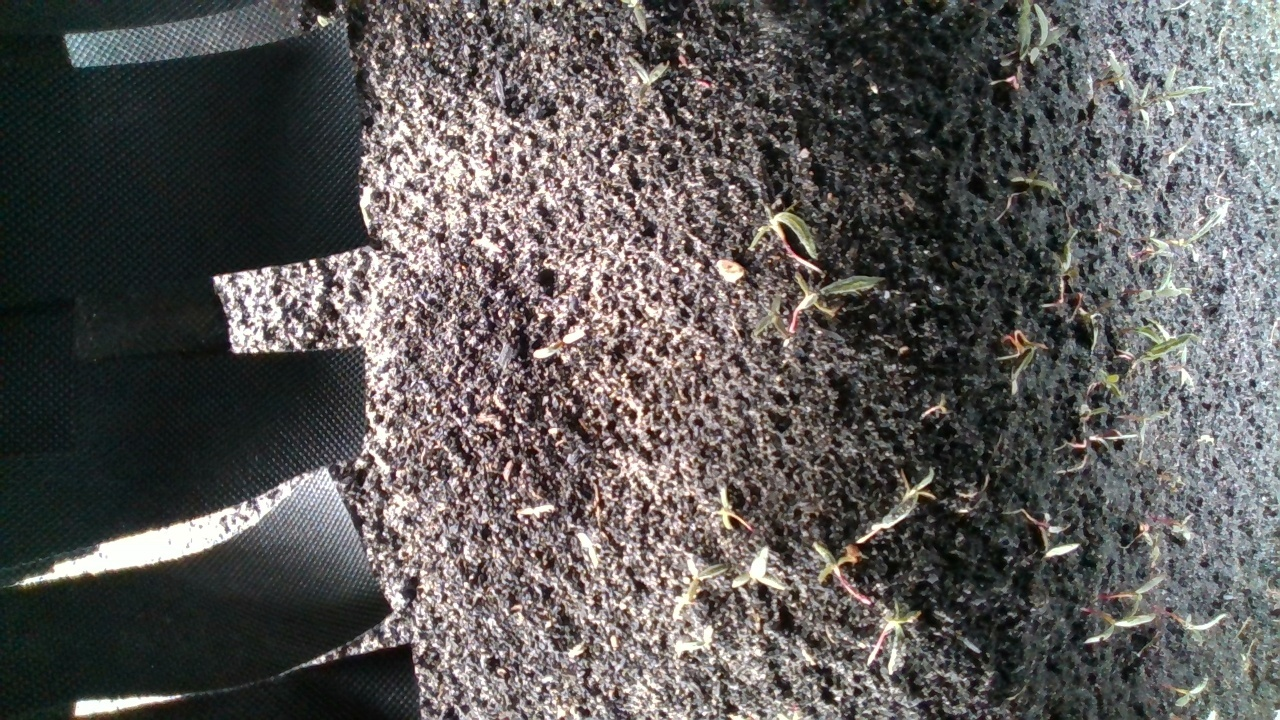weed: (997, 332, 1055, 397)
